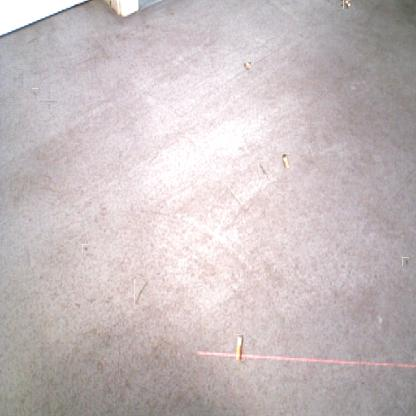dirty: (236, 334, 244, 361), (282, 153, 290, 170), (341, 0, 350, 7), (244, 61, 251, 69)
mark: (134, 279, 149, 305), (258, 160, 270, 180), (42, 94, 56, 108), (26, 34, 38, 46), (32, 88, 38, 99), (402, 257, 409, 266), (82, 244, 89, 253)
